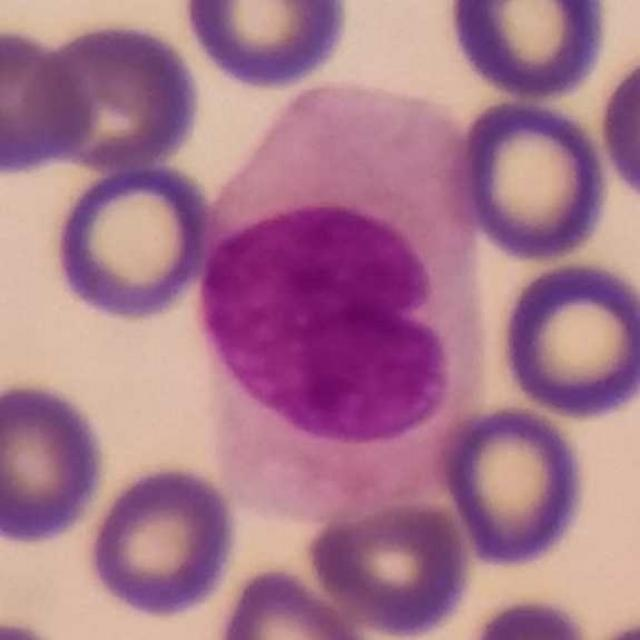Monocyte: (202, 83, 504, 519)
RBC: (446, 93, 614, 264), (46, 158, 218, 325), (27, 17, 206, 174), (432, 402, 592, 571), (84, 460, 242, 621), (303, 495, 476, 639), (493, 256, 639, 423), (0, 377, 110, 549), (441, 0, 613, 104), (179, 0, 355, 92), (0, 22, 96, 178), (212, 562, 376, 640), (595, 46, 640, 209), (456, 591, 601, 640)
